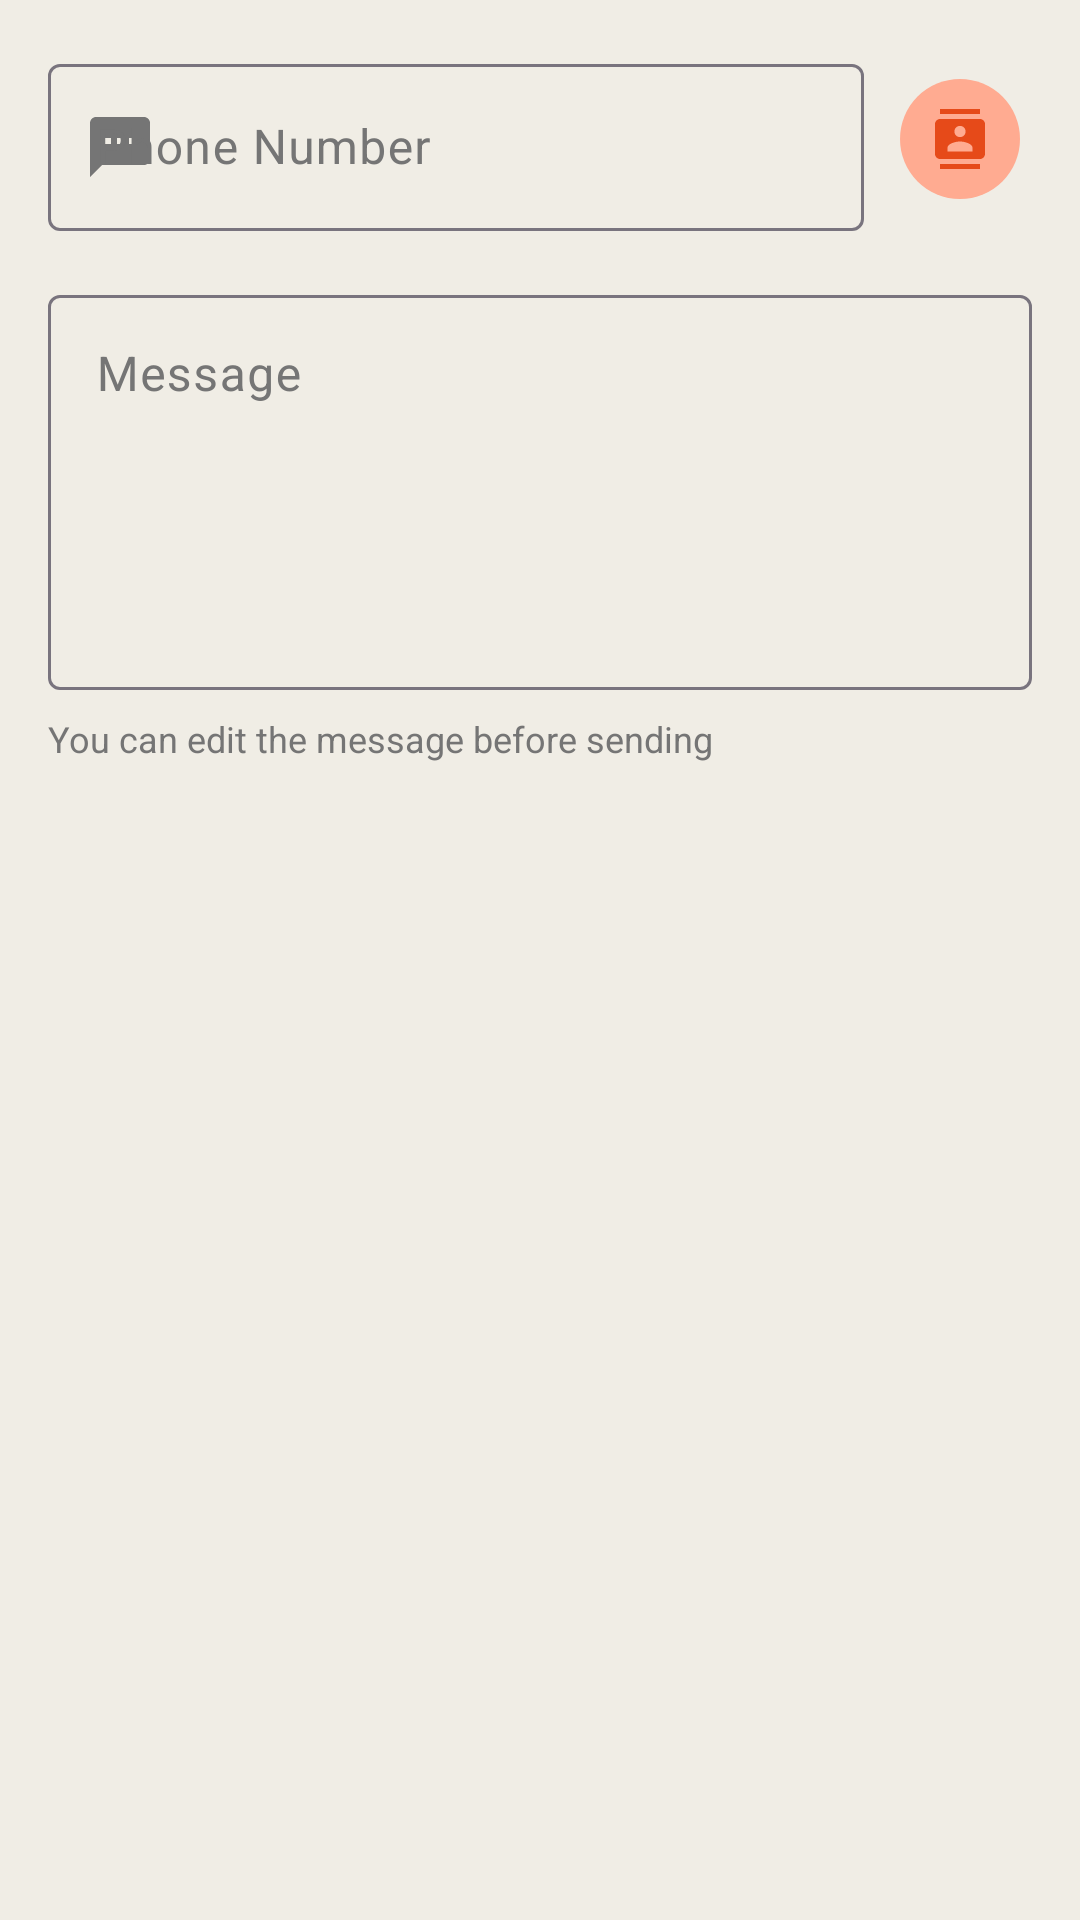

Icons on this 1080px x 1920px Android screen, each with its box as (x1, y1, x2, y2):
Pick from Contacts: (900, 79, 1020, 199)
